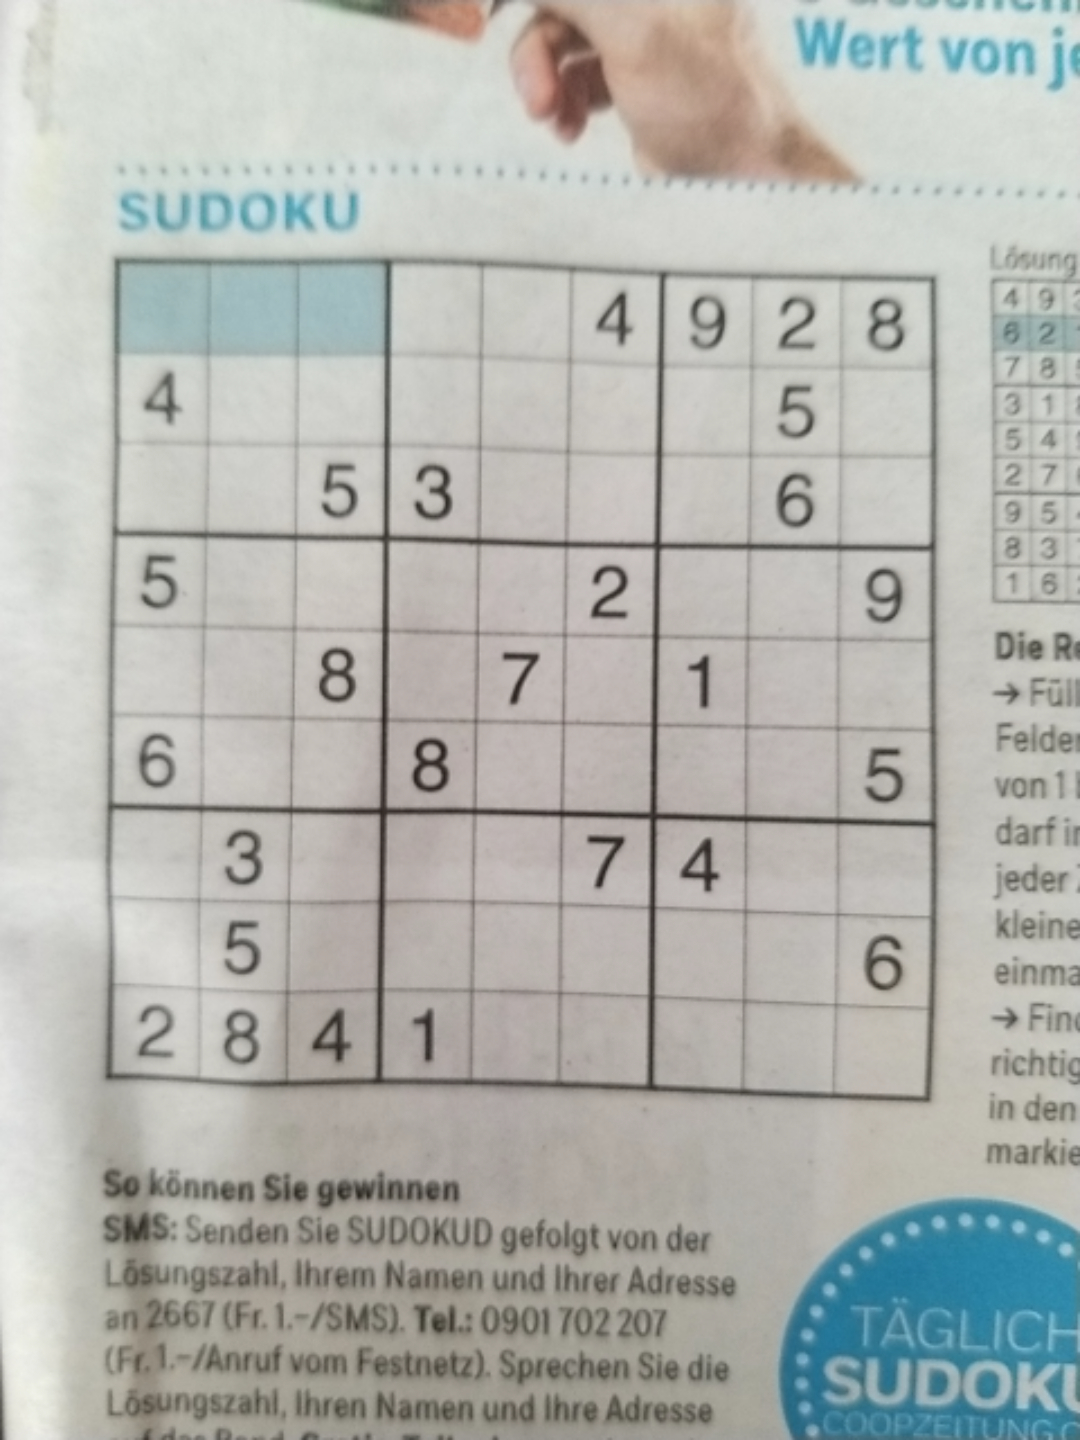sudoku: (107, 255, 940, 1107)
